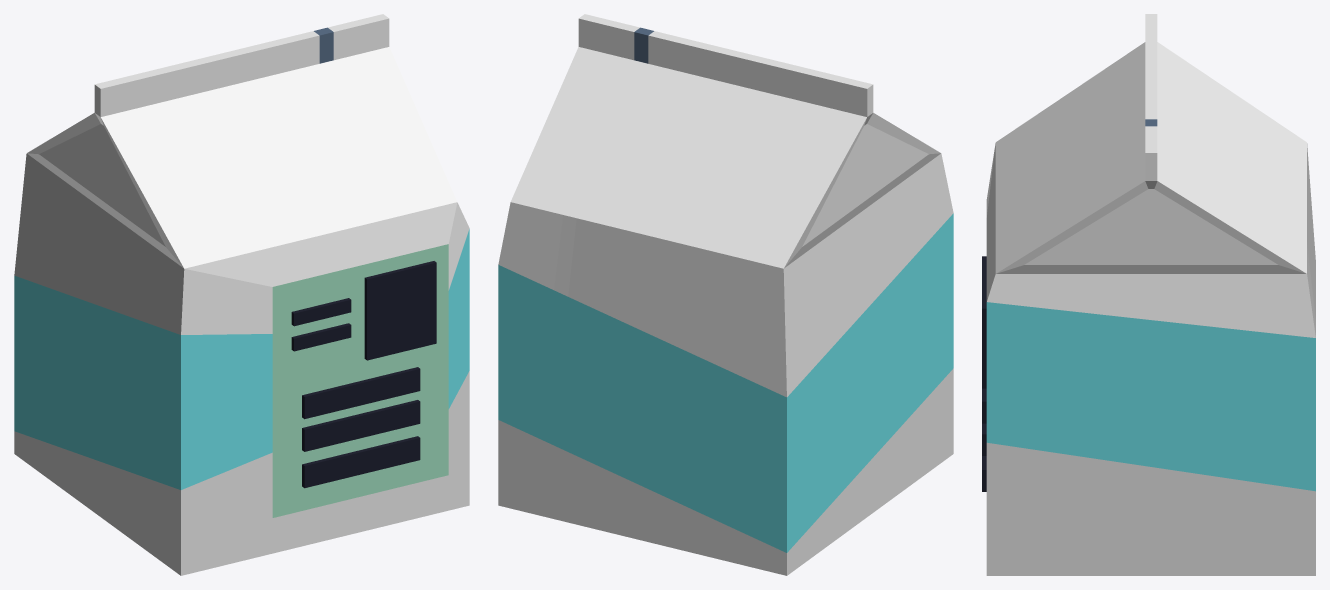
Rendered from Food_MilkSports.fbx.
The picture shows the model from 3 angles, left to right: view 1: azimuth 30°, elevation 25°; view 2: azimuth 150°, elevation 25°; view 3: azimuth 270°, elevation 25°; orthographic projection.
Parts seen in each view (by area): view 1: MilkSnack!; view 2: MilkSnack!; view 3: MilkSnack!.
Part boxes in pixels (bbox=[...]): MilkSnack!: bbox=[14, 14, 469, 575]; MilkSnack!: bbox=[498, 14, 953, 575]; MilkSnack!: bbox=[982, 14, 1315, 575].
Bounding box in the file's own units: 14.74 × 20.91 × 14.96.
